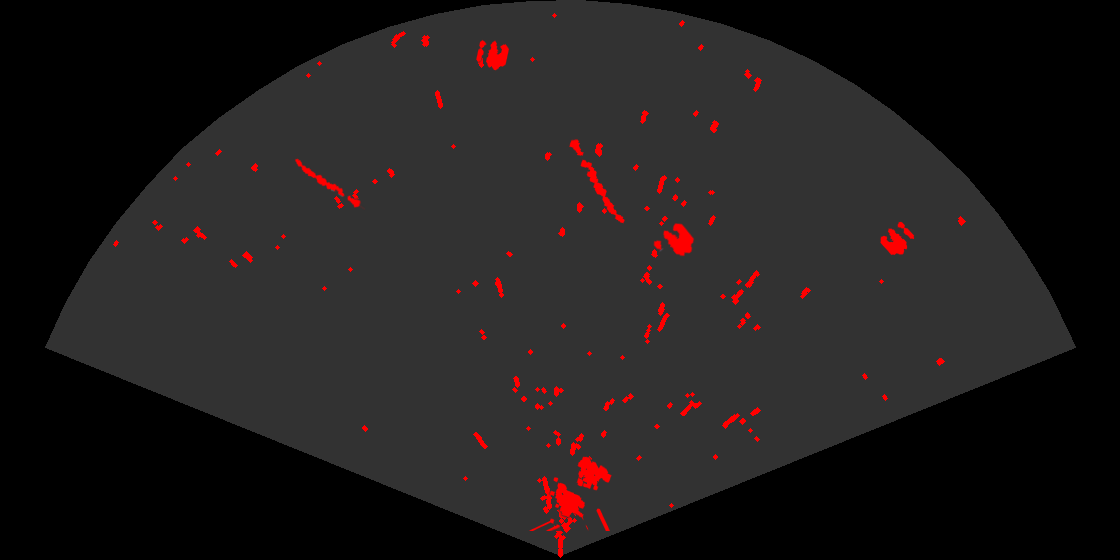ball: (652, 222, 696, 258), (879, 220, 916, 257), (475, 38, 511, 72)
cage: (528, 455, 613, 531)
chain: (568, 137, 626, 225), (293, 157, 365, 211)
